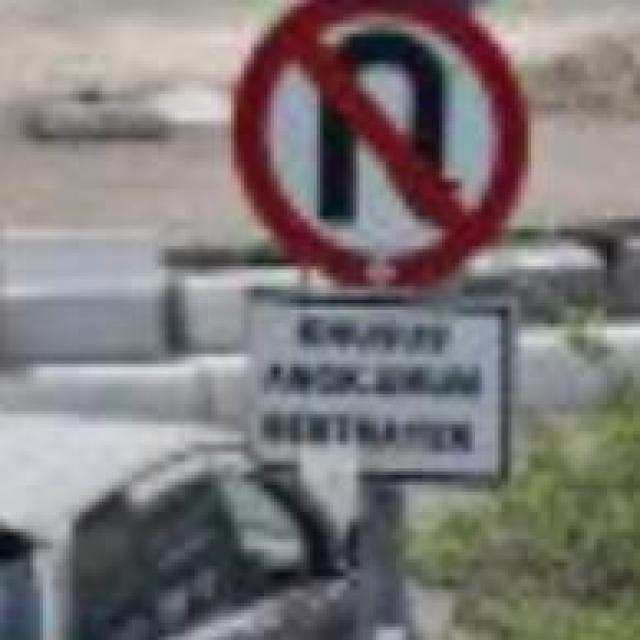traffic sign: (228, 3, 525, 282)
